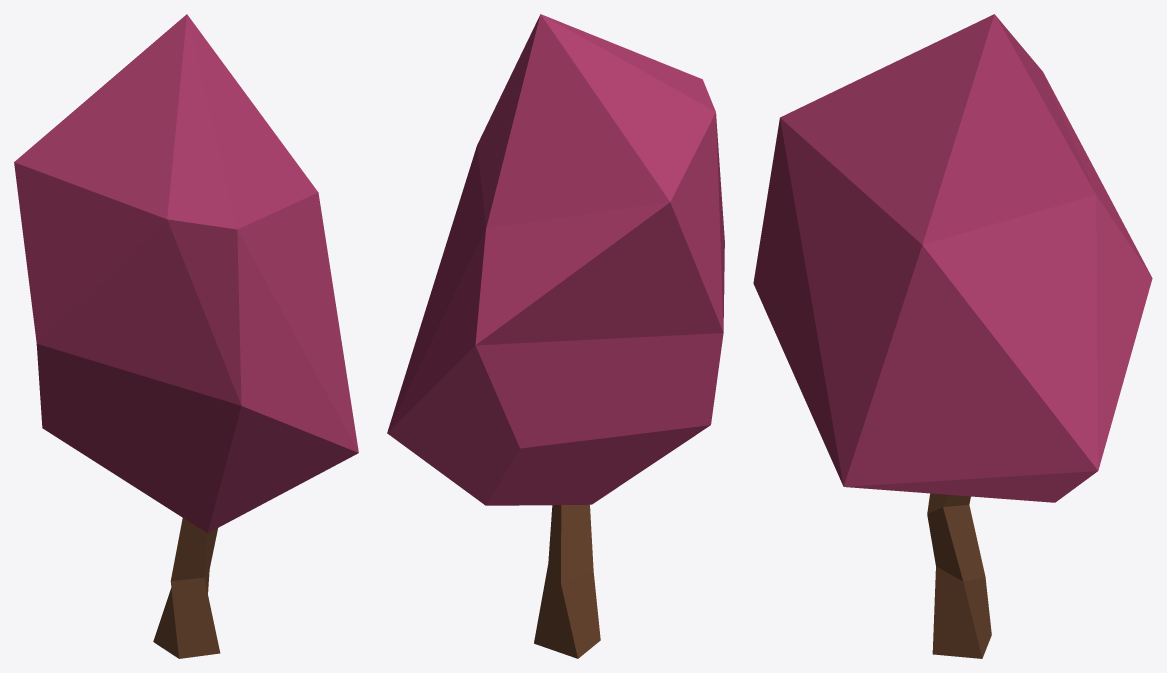
The model's file is Tree_51_Pink.fbx.
3 renders of one model, left to right at view 1: azimuth 30°, elevation 25°; view 2: azimuth 150°, elevation 25°; view 3: azimuth 270°, elevation 25°, orthographic. The views are drawn at different scales.
Parts seen in each view (by area): view 1: Tree_51_Pink_Part_2, Tree_51_Pink_Part_1; view 2: Tree_51_Pink_Part_2, Tree_51_Pink_Part_1; view 3: Tree_51_Pink_Part_2, Tree_51_Pink_Part_1.
Boxes of the visible parts, x1,y1,x2,y2 form: Tree_51_Pink_Part_2: [14, 14, 358, 533]; Tree_51_Pink_Part_1: [153, 518, 220, 658]; Tree_51_Pink_Part_2: [387, 14, 724, 505]; Tree_51_Pink_Part_1: [534, 504, 600, 658]; Tree_51_Pink_Part_2: [753, 14, 1152, 502]; Tree_51_Pink_Part_1: [927, 493, 991, 658].
Bounding box in the file's own units: 257 × 577 × 327.
